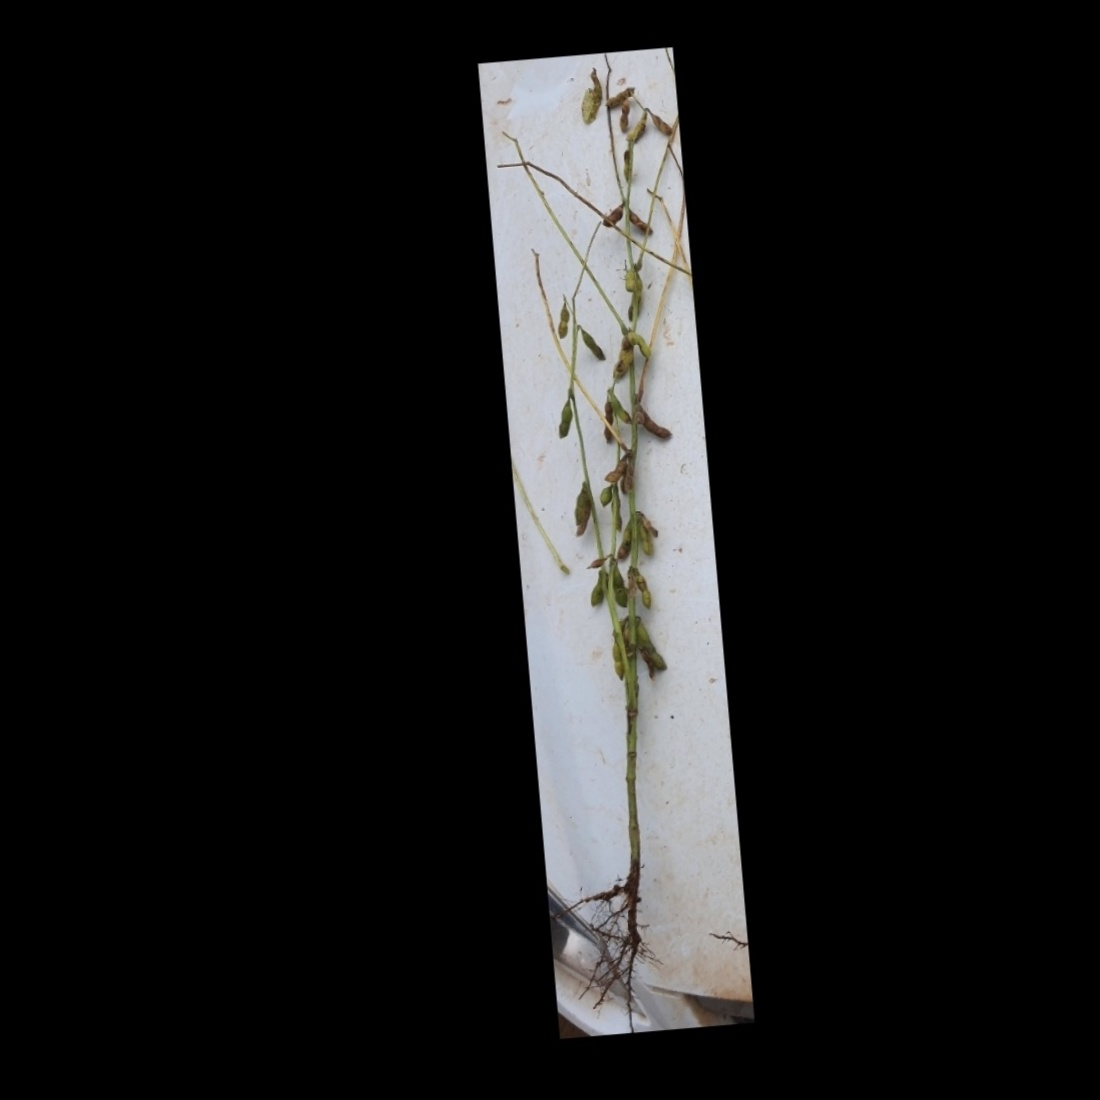pod: (636, 399, 677, 446), (576, 323, 608, 366), (625, 202, 656, 242), (608, 566, 632, 612), (629, 327, 655, 368), (603, 79, 634, 111), (646, 104, 673, 139), (608, 389, 633, 426), (631, 569, 651, 610), (554, 301, 575, 340), (601, 199, 630, 229), (586, 571, 606, 610), (556, 400, 575, 439), (609, 638, 626, 683), (616, 100, 635, 133), (618, 145, 633, 184), (620, 268, 636, 298), (596, 485, 613, 511)
soy: (492, 60, 749, 1012)
